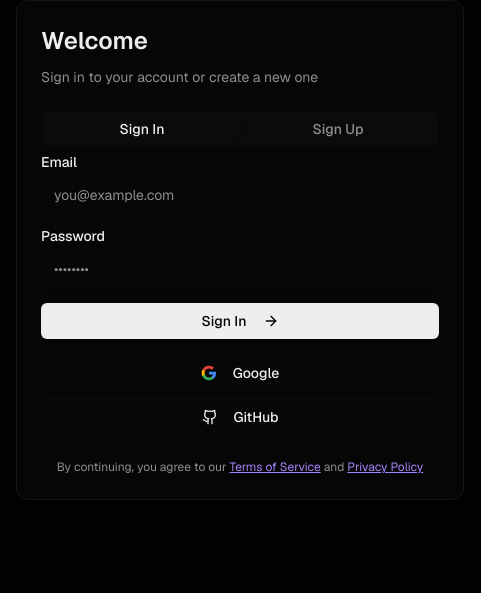
AuthFormWithQuery - Password Confirmation › Password Confirmation Field › should render password confirmation field on signup tab
What coordinates should you click on to do the following:
click the tab "Sign Up"
I would click on:
 (338, 129)
Its box is x1=240 y1=114 x2=436 y2=144.
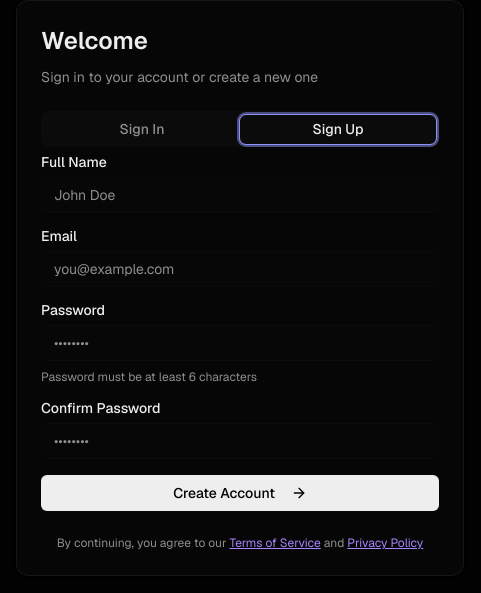
Check: the password field labelled "Password" is shown, box x1=41 y1=325 x2=439 y2=361
Check: the password field labelled "Confirm Password" is shown, box x1=41 y1=423 x2=439 y2=459
